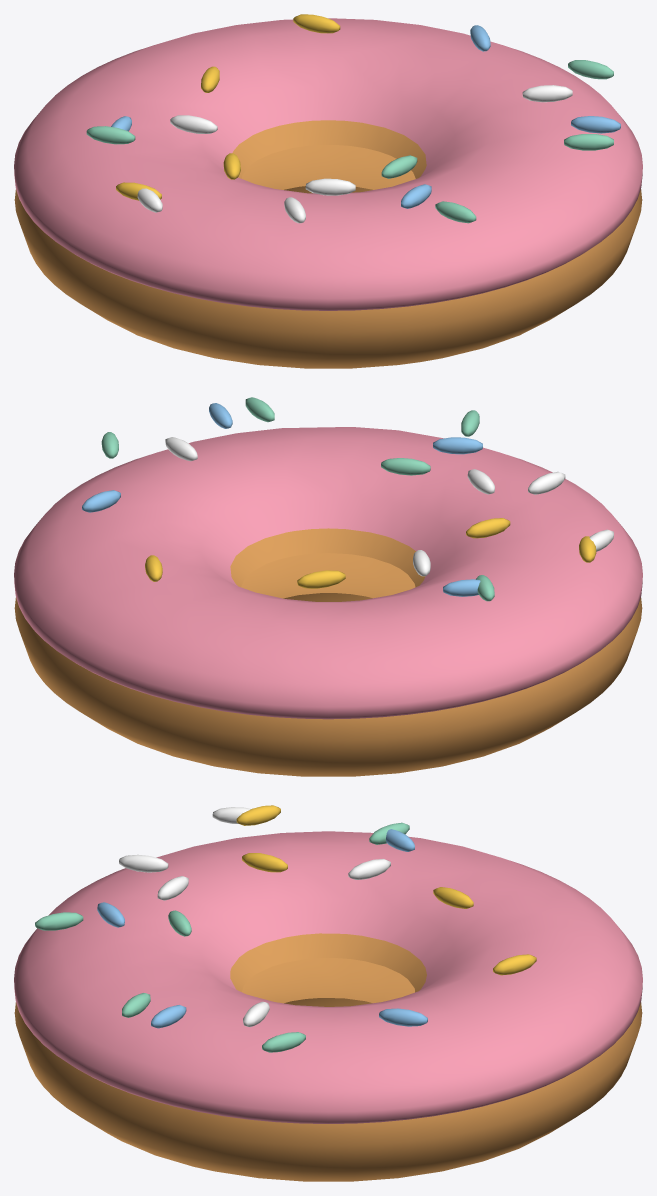
The model's file is comida_dona.glb.
3 renders of one model, top to bottom at view 1: azimuth 30°, elevation 25°; view 2: azimuth 150°, elevation 25°; view 3: azimuth 270°, elevation 25°, orthographic.
Parts seen in each view (by area): view 1: glaseado.001, dona.001, grajea 12.001, grajea 0.001, grajea 17.001, grajea 7.001, grajea 1.001, grajea 14.001, grajea 16.001, grajea 5.001, grajea 13.001, grajea 9.001 (+1 smaller); view 2: glaseado.001, dona.001, grajea 3.001, grajea 9.001, grajea 2.001, grajea 6.001, grajea 11.001, grajea 4.001, grajea 15.001; view 3: glaseado.001, dona.001, grajea 4.001, grajea 11.001, grajea 13.001, grajea 6.001, grajea 5.001, grajea 10.001, grajea 14.001, grajea 16.001, grajea 2.001, grajea 7.001.
Part boxes in pixels (x1,y1,x2,y2): glaseado.001: [14, 18, 642, 310]; dona.001: [14, 120, 642, 368]; grajea 12.001: [522, 85, 572, 102]; grajea 0.001: [305, 178, 355, 195]; grajea 17.001: [564, 134, 613, 150]; grajea 7.001: [571, 116, 620, 133]; grajea 1.001: [86, 126, 135, 144]; grajea 14.001: [293, 14, 340, 33]; grajea 16.001: [170, 115, 217, 133]; grajea 5.001: [568, 60, 613, 79]; grajea 13.001: [435, 201, 476, 223]; grajea 9.001: [381, 155, 417, 178]; glaseado.001: [14, 427, 642, 719]; dona.001: [14, 528, 642, 776]; grajea 3.001: [433, 437, 482, 454]; grajea 9.001: [381, 458, 430, 475]; grajea 2.001: [297, 570, 345, 588]; grajea 6.001: [466, 518, 510, 538]; grajea 11.001: [82, 490, 120, 512]; grajea 4.001: [528, 471, 565, 494]; grajea 15.001: [443, 579, 480, 596]; glaseado.001: [14, 831, 642, 1123]; dona.001: [14, 933, 642, 1181]; grajea 4.001: [119, 854, 168, 872]; grajea 11.001: [379, 1008, 427, 1026]; grajea 13.001: [35, 912, 83, 930]; grajea 6.001: [242, 853, 287, 872]; grajea 5.001: [262, 1032, 305, 1052]; grajea 10.001: [236, 805, 280, 825]; grajea 14.001: [493, 954, 536, 975]; grajea 16.001: [348, 858, 390, 879]; grajea 2.001: [433, 887, 473, 908]; grajea 7.001: [151, 1005, 186, 1028].
Bounding box in the file's own units: 0.2859 × 0.0825 × 0.2859.
